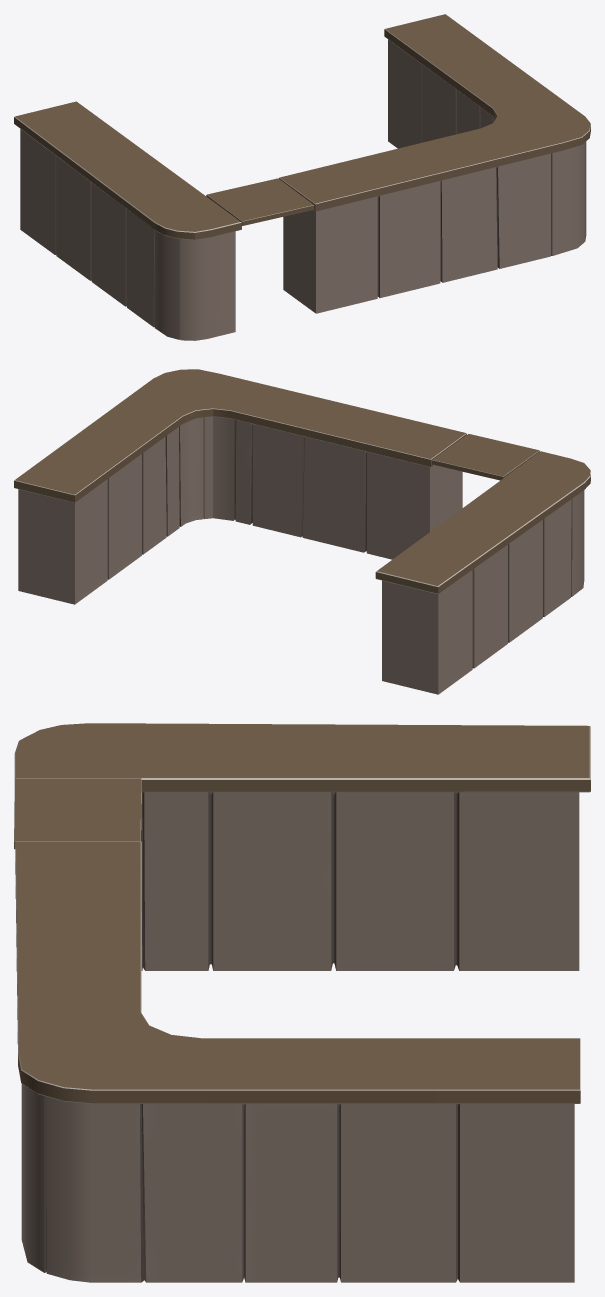
The model's file is Barista_Counter1_Textured.fbx.
3 renders of one model, top to bottom at view 1: azimuth 30°, elevation 25°; view 2: azimuth 150°, elevation 25°; view 3: azimuth 270°, elevation 25°, orthographic. The views are drawn at different scales.
Visible parts, largest first — view 1: polySurface7, polySurface8.001, polySurface6.001, polySurface5.001, polySurface7.001, polySurface8, polySurface6; view 2: polySurface7, polySurface8.001, polySurface6.001, polySurface7.001, polySurface5.001, polySurface8, polySurface6; view 3: polySurface7, polySurface8.001, polySurface6.001, polySurface5.001, polySurface7.001, polySurface8, polySurface6.
Part boxes in pixels (left/top/right/bottom): polySurface7: left=20, top=39, right=586, bottom=340; polySurface8.001: left=279, top=14, right=590, bottom=211; polySurface6.001: left=14, top=101, right=241, bottom=239; polySurface5.001: left=206, top=178, right=314, bottom=225; polySurface7.001: left=55, top=63, right=552, bottom=339; polySurface8: left=279, top=29, right=590, bottom=211; polySurface6: left=14, top=116, right=241, bottom=239; polySurface7: left=18, top=416, right=583, bottom=694; polySurface8.001: left=14, top=369, right=466, bottom=502; polySurface6.001: left=375, top=451, right=590, bottom=593; polySurface7.001: left=107, top=417, right=584, bottom=668; polySurface5.001: left=432, top=434, right=539, bottom=480; polySurface8: left=14, top=408, right=466, bottom=502; polySurface6: left=376, top=464, right=590, bottom=593; polySurface7: left=21, top=792, right=579, bottom=1282; polySurface8.001: left=15, top=841, right=580, bottom=1103; polySurface6.001: left=16, top=723, right=590, bottom=791; polySurface5.001: left=14, top=778, right=141, bottom=848; polySurface7.001: left=44, top=792, right=459, bottom=1282; polySurface8: left=15, top=841, right=580, bottom=1103; polySurface6: left=14, top=726, right=590, bottom=792.
Size of the model in its own units: 345 by 85.94 by 229.
8 materials, 5 textured.
